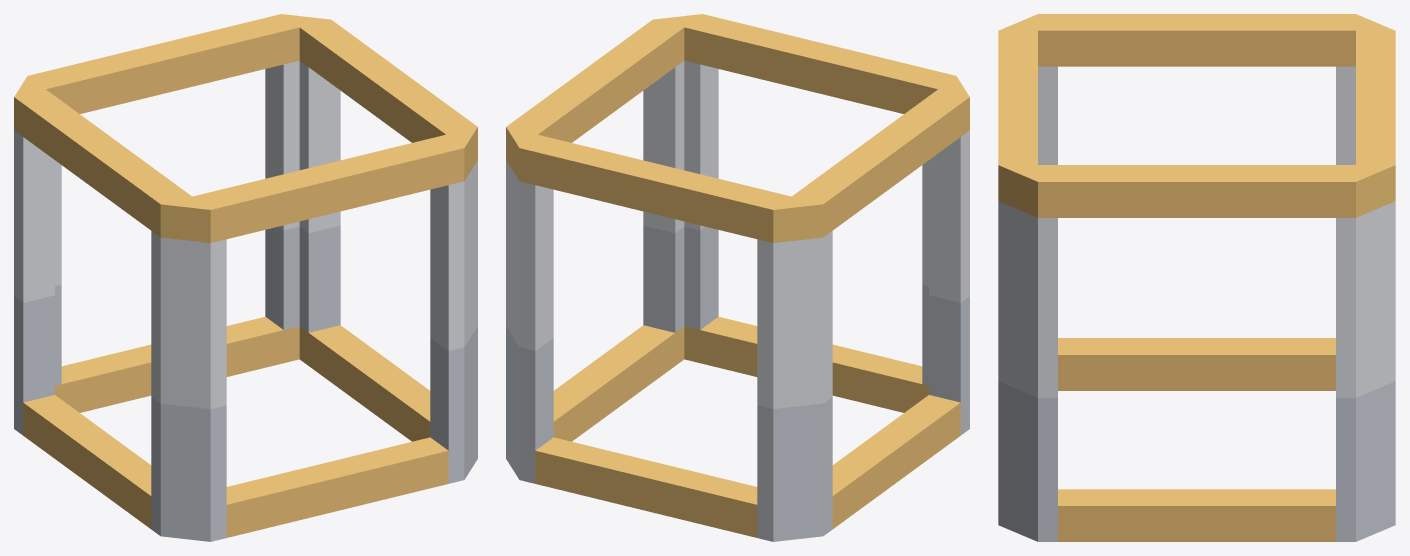
The model's file is structure_detailed.glb.
3 views of the same model, side by side, from view 1: azimuth 30°, elevation 25°; view 2: azimuth 150°, elevation 25°; view 3: azimuth 270°, elevation 25° (orthographic). The views are drawn at different scales.
Parts seen in each view (by area): view 1: structure_detailed; view 2: structure_detailed; view 3: structure_detailed.
Boxes of the visible parts, x1,y1,x2,y2 form: structure_detailed: [14, 14, 477, 541]; structure_detailed: [506, 14, 969, 541]; structure_detailed: [998, 14, 1395, 541].
Bounding box in the file's own units: 1 × 1 × 1.
Materials: 1 (1 with a texture image).
